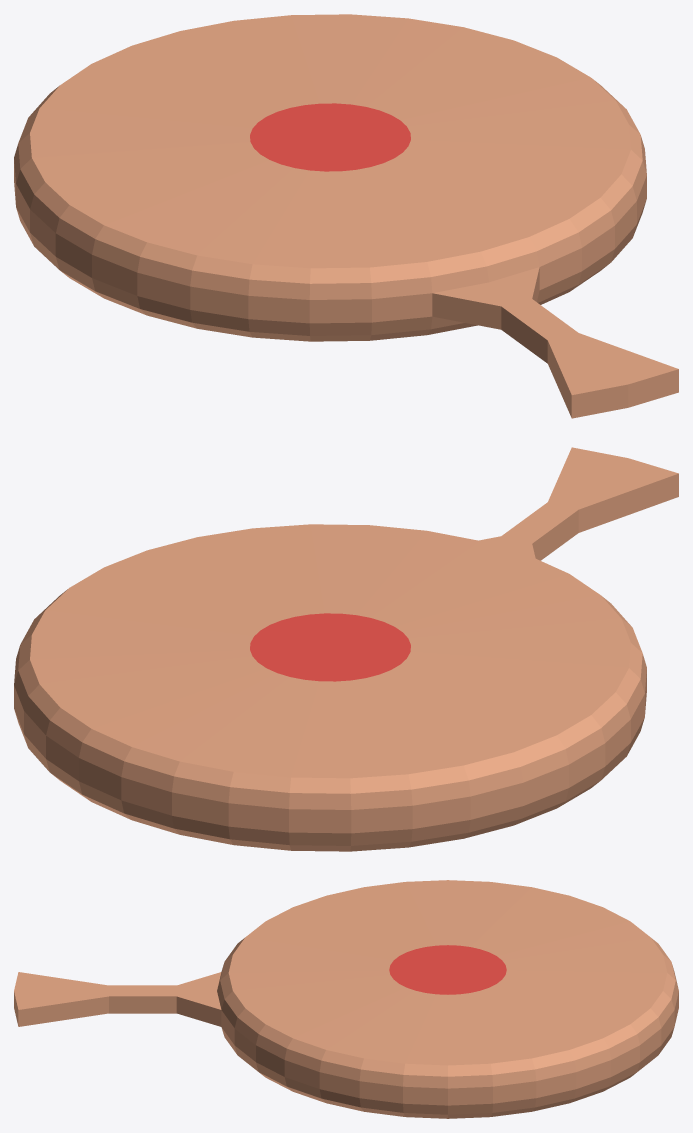
File: FartPillow.fbx
3 renders of one model, top to bottom at view 1: azimuth 30°, elevation 25°; view 2: azimuth 150°, elevation 25°; view 3: azimuth 270°, elevation 25°, orthographic. The views are drawn at different scales.
Parts seen in each view (by area): view 1: Fartpillow; view 2: Fartpillow; view 3: Fartpillow.
Part boxes in pixels (x1,y1,x2,y2): Fartpillow: (14,14,678,418); Fartpillow: (14,447,678,851); Fartpillow: (14,880,678,1118).
Bounding box in the file's own units: 200 × 28.18 × 288.
